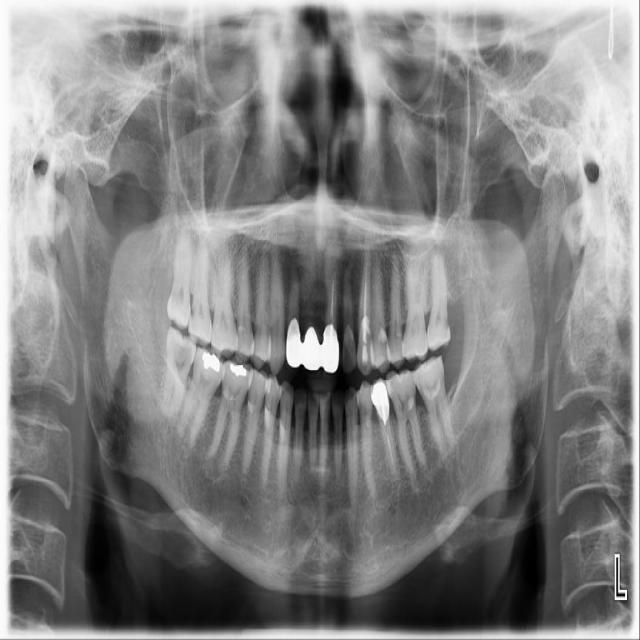Crown: (286, 317, 339, 373), (370, 378, 390, 420)
Filling: (202, 352, 221, 371), (361, 316, 370, 343), (230, 364, 250, 376), (362, 346, 368, 364)
Root Canal Treatment: (389, 436, 394, 477), (364, 258, 367, 311), (332, 282, 335, 324)
